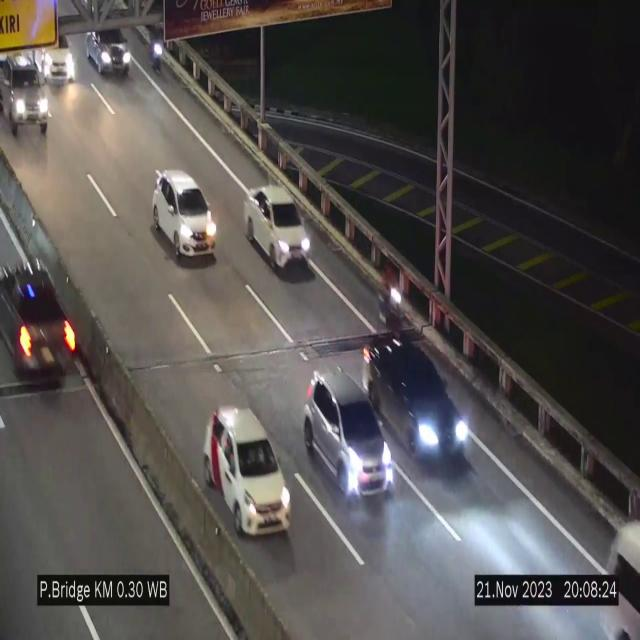Car: (363, 334, 469, 472), (0, 245, 92, 383), (304, 370, 396, 499), (207, 408, 291, 535), (246, 184, 314, 276), (152, 170, 217, 260), (601, 490, 640, 640), (0, 54, 53, 146), (31, 28, 80, 88), (86, 28, 130, 76)
Motorcycle: (378, 258, 404, 331), (150, 25, 166, 80)
